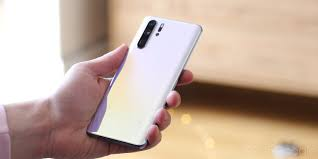huawei: (86, 14, 203, 144)
